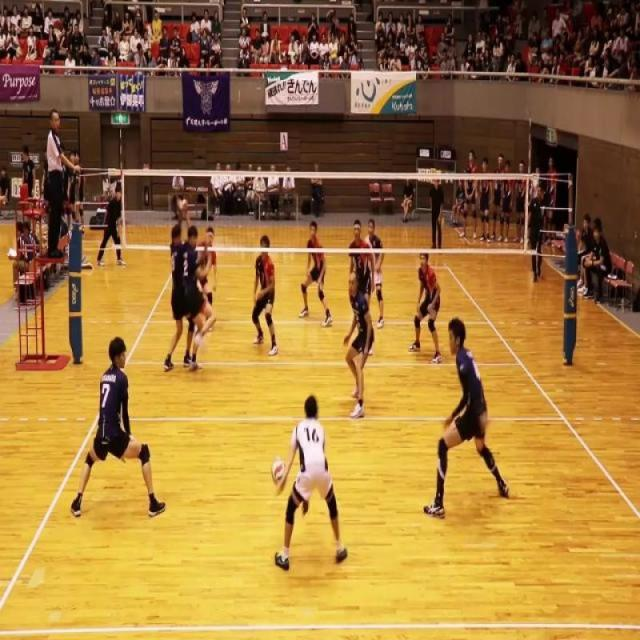volleyball: (270, 454, 286, 490)
